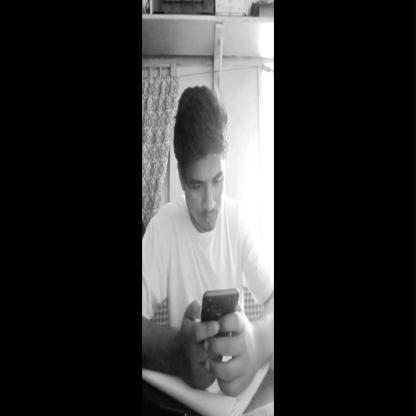Normal: (174, 84, 230, 235)
